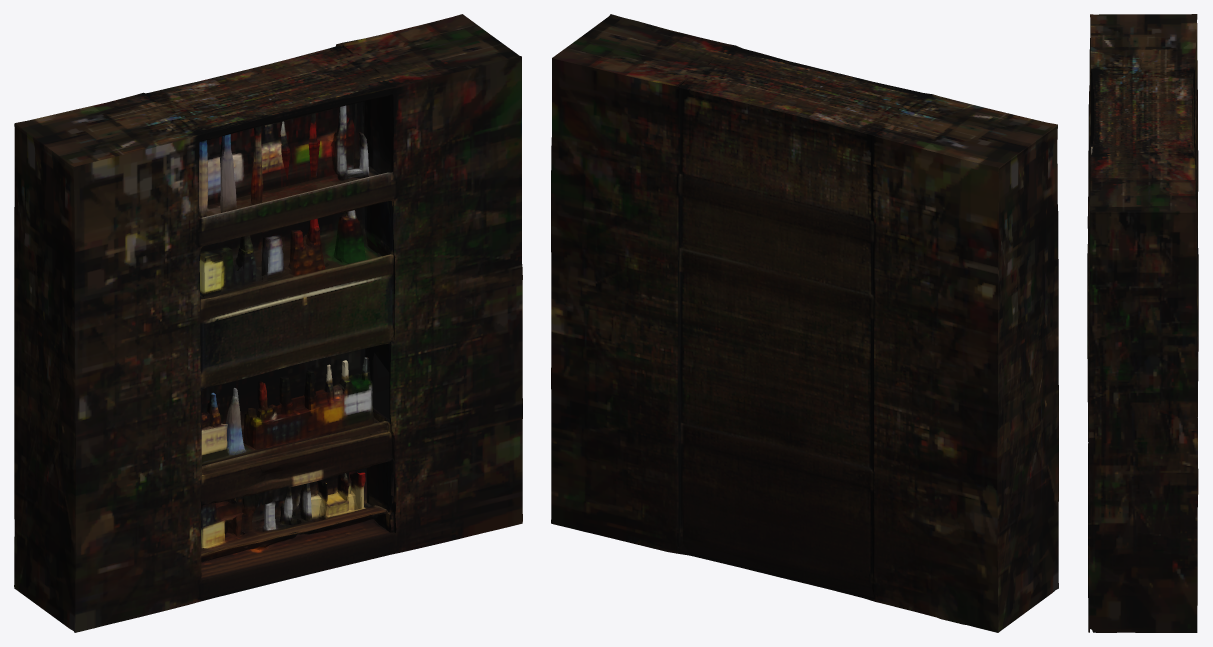
File: trellis_1789119036631_u0x5u.glb
3 views of the same model, side by side, from view 1: azimuth 30°, elevation 25°; view 2: azimuth 150°, elevation 25°; view 3: azimuth 270°, elevation 25° (orthographic). The views are drawn at different scales.
Parts seen in each view (by area): view 1: world; view 2: world; view 3: world.
Boxes of the visible parts, x1,y1,x2,y2 form: world: (14,14,522,632); world: (551,14,1058,632); world: (1087,14,1198,632).
Size of the model in its own units: 1 by 0.9988 by 0.2382.
1 material, 1 textured.
